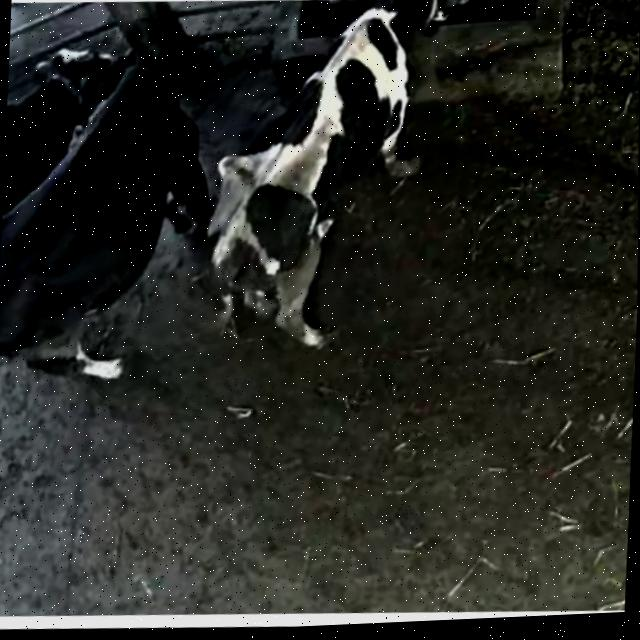drink: (315, 0, 496, 103)
